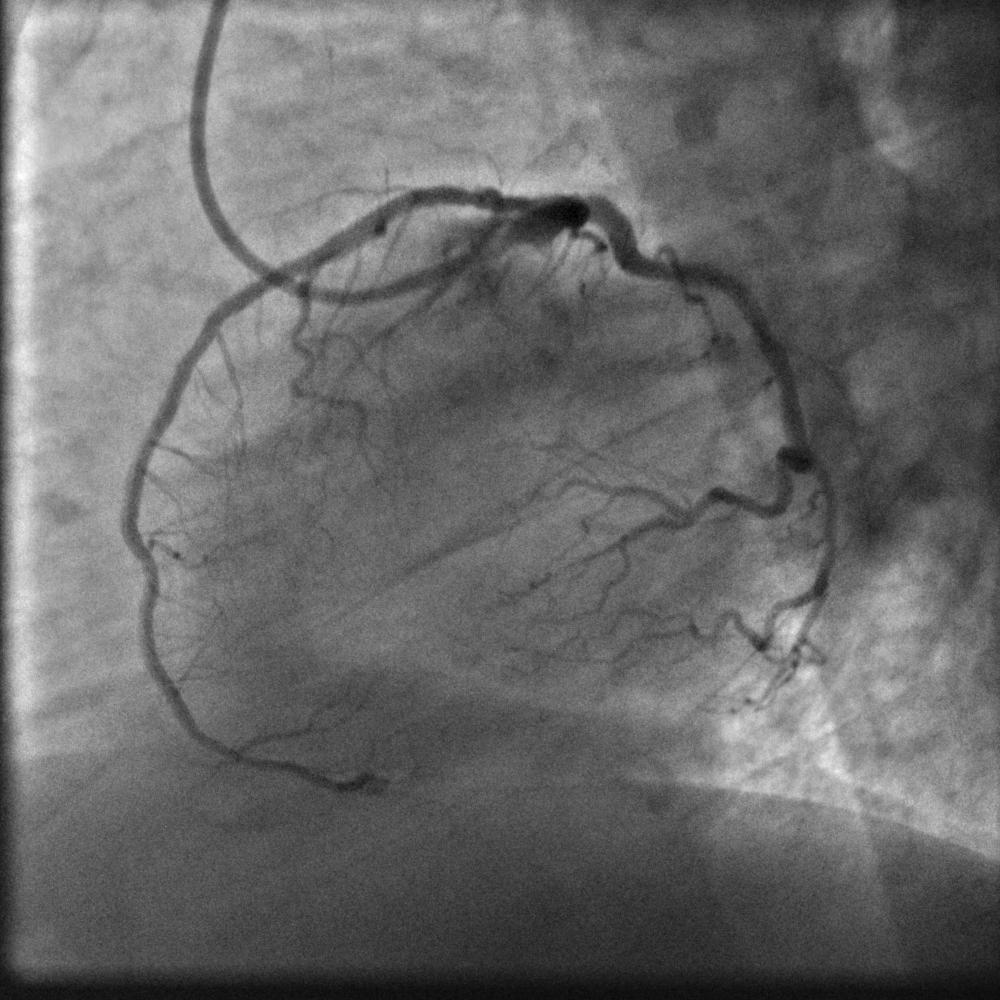Stenosis: (458, 184, 489, 209)
